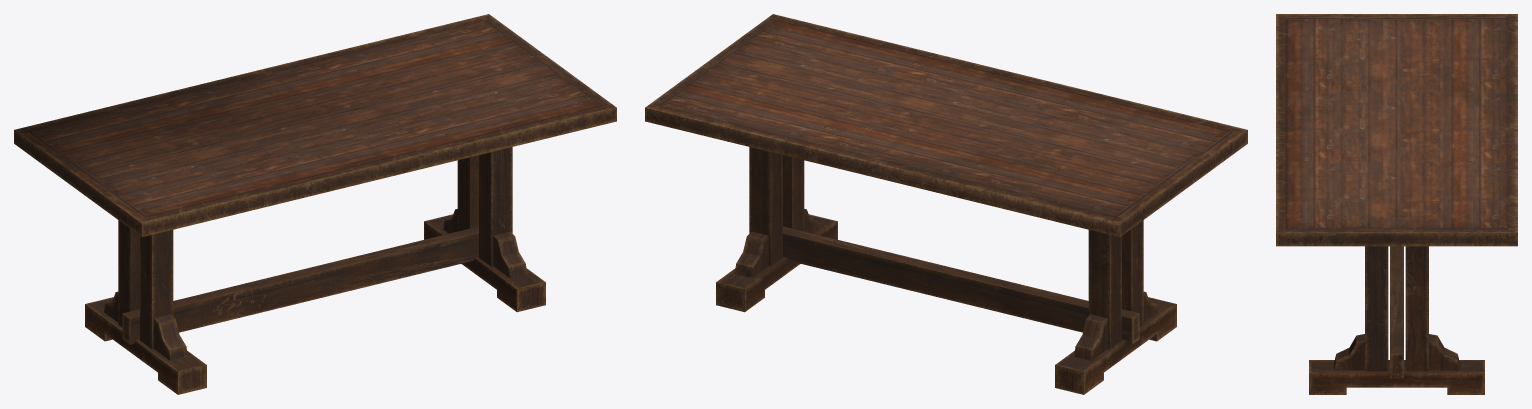
Rendered from table_1.fbx.
3 renders of one model, left to right at view 1: azimuth 30°, elevation 25°; view 2: azimuth 150°, elevation 25°; view 3: azimuth 270°, elevation 25°, orthographic. The views are drawn at different scales.
Visible parts, largest first — view 1: node_f97da858_5a6e_4e94_b3c9_cae1746ffecb_mesh0; view 2: node_f97da858_5a6e_4e94_b3c9_cae1746ffecb_mesh0; view 3: node_f97da858_5a6e_4e94_b3c9_cae1746ffecb_mesh0.
Boxes of the visible parts, bbox=[...] form: node_f97da858_5a6e_4e94_b3c9_cae1746ffecb_mesh0: bbox=[14, 14, 616, 394]; node_f97da858_5a6e_4e94_b3c9_cae1746ffecb_mesh0: bbox=[645, 14, 1247, 394]; node_f97da858_5a6e_4e94_b3c9_cae1746ffecb_mesh0: bbox=[1276, 14, 1517, 394].
Bounding box in the file's own units: 1.8 × 0.7146 × 0.84.
